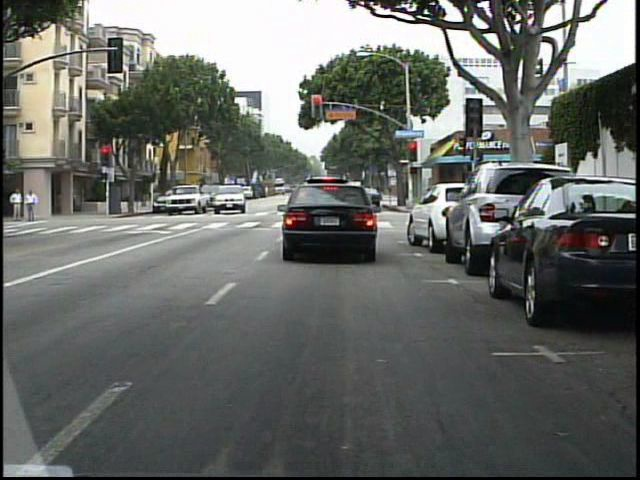person: (12, 185, 27, 222), (26, 187, 41, 223)
